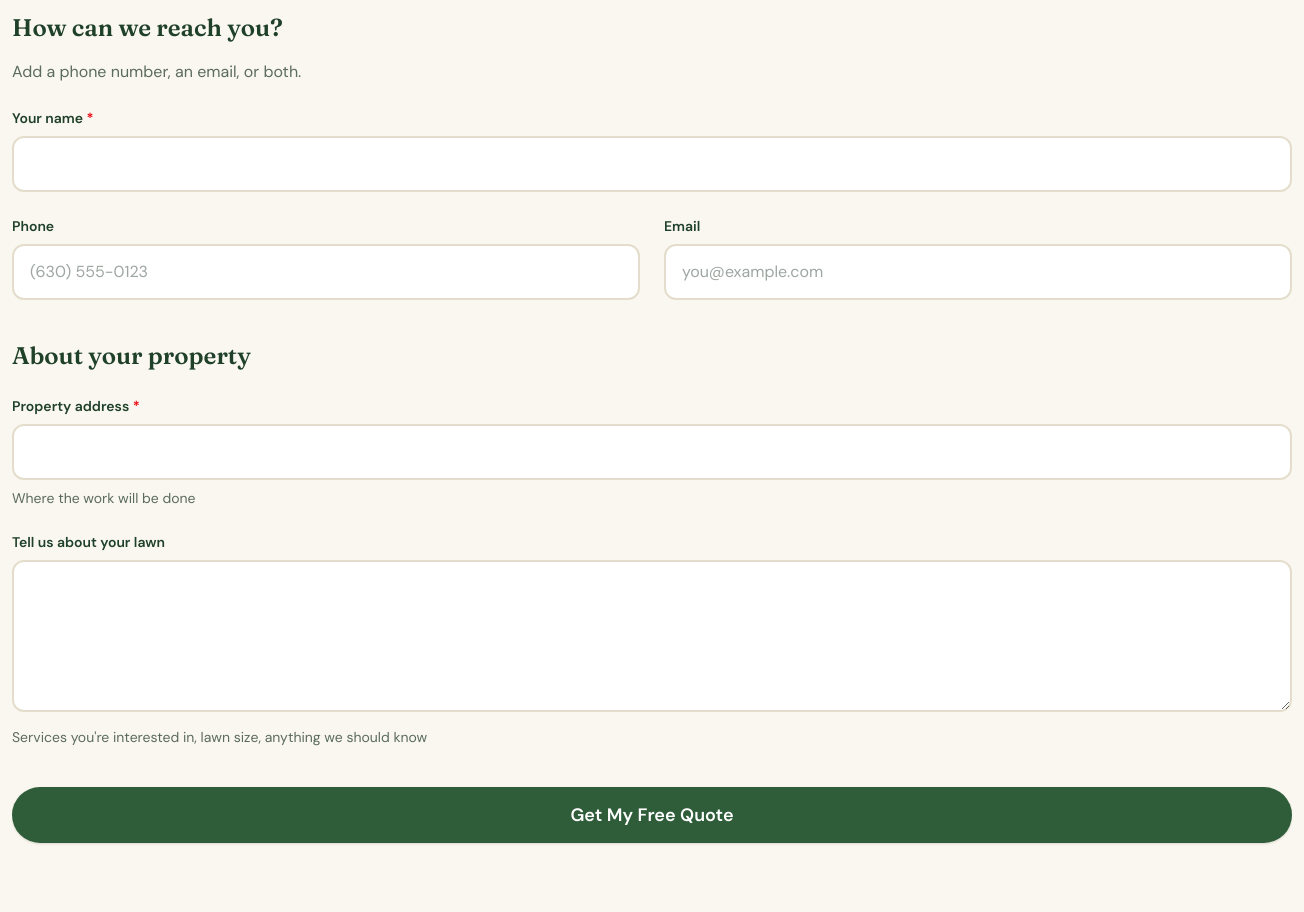
Test case: QuoteForm › rejects an incomplete phone number
In the field labelled "Your name *": [652, 164] box [12, 136, 1292, 192], type "Jane Smith"
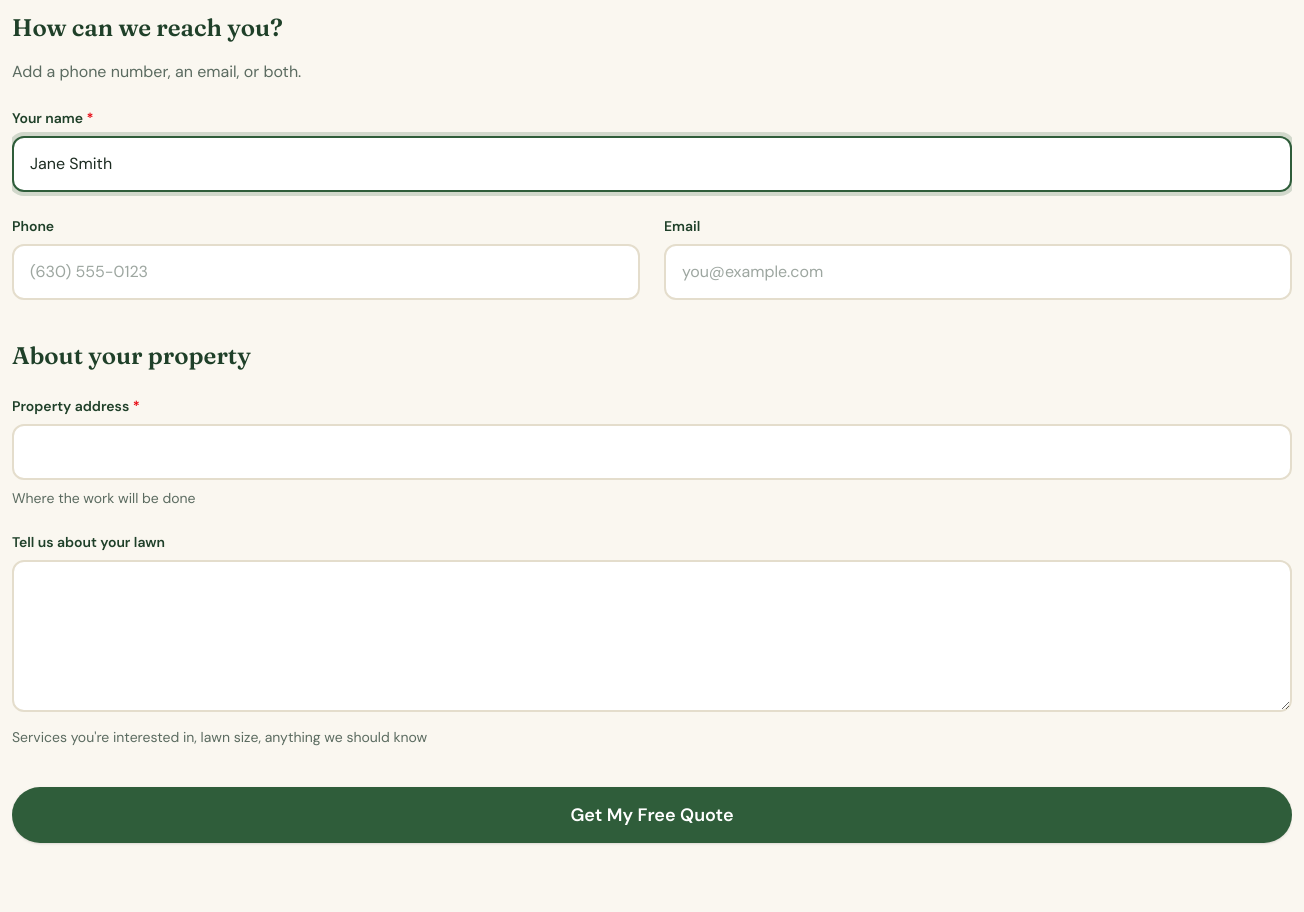
In the field labelled "Property address *": [652, 452] box [12, 424, 1292, 480], type "12 Main St"
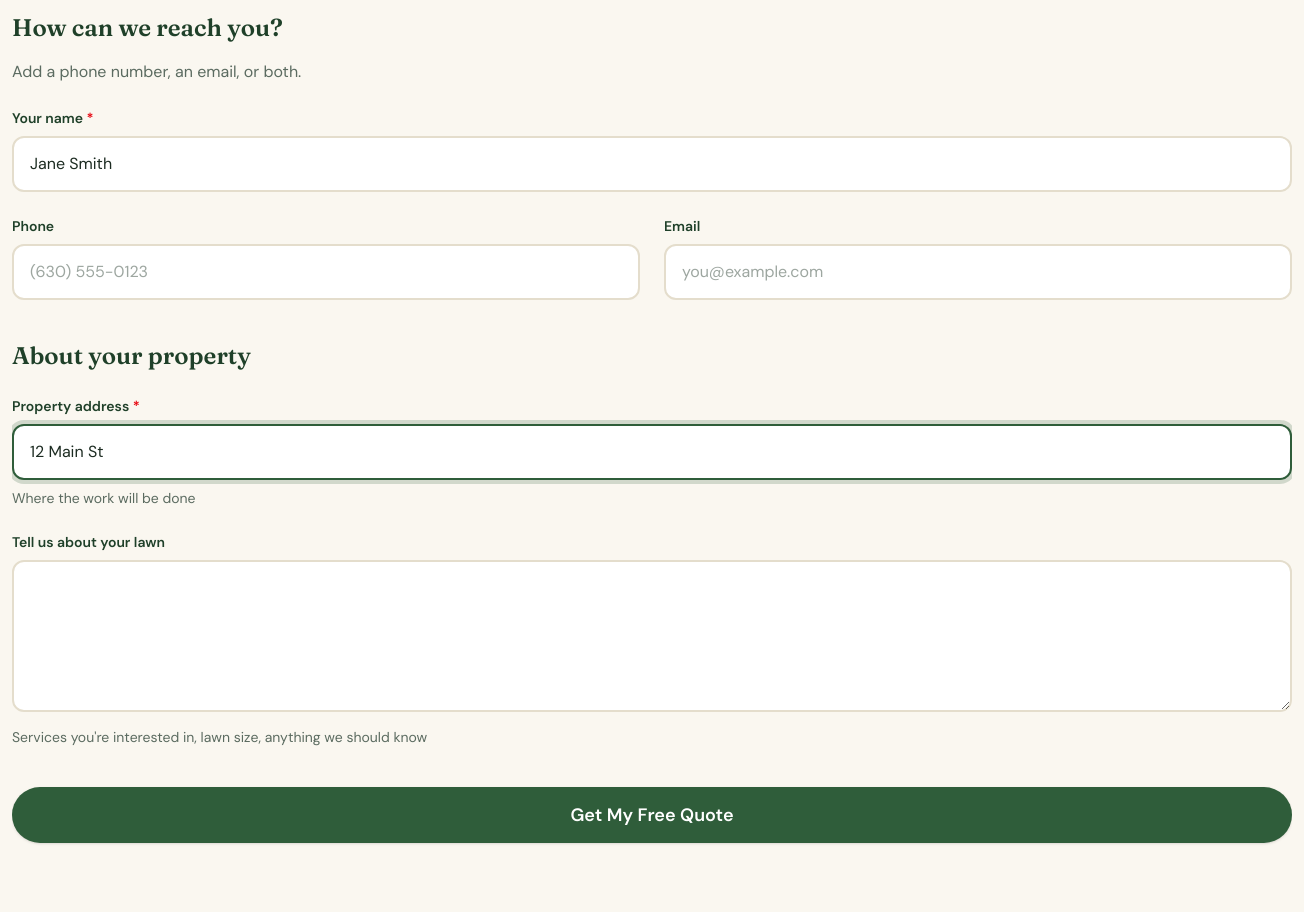
In the field labelled "Phone": [326, 272] box [12, 244, 640, 300], type "63055"
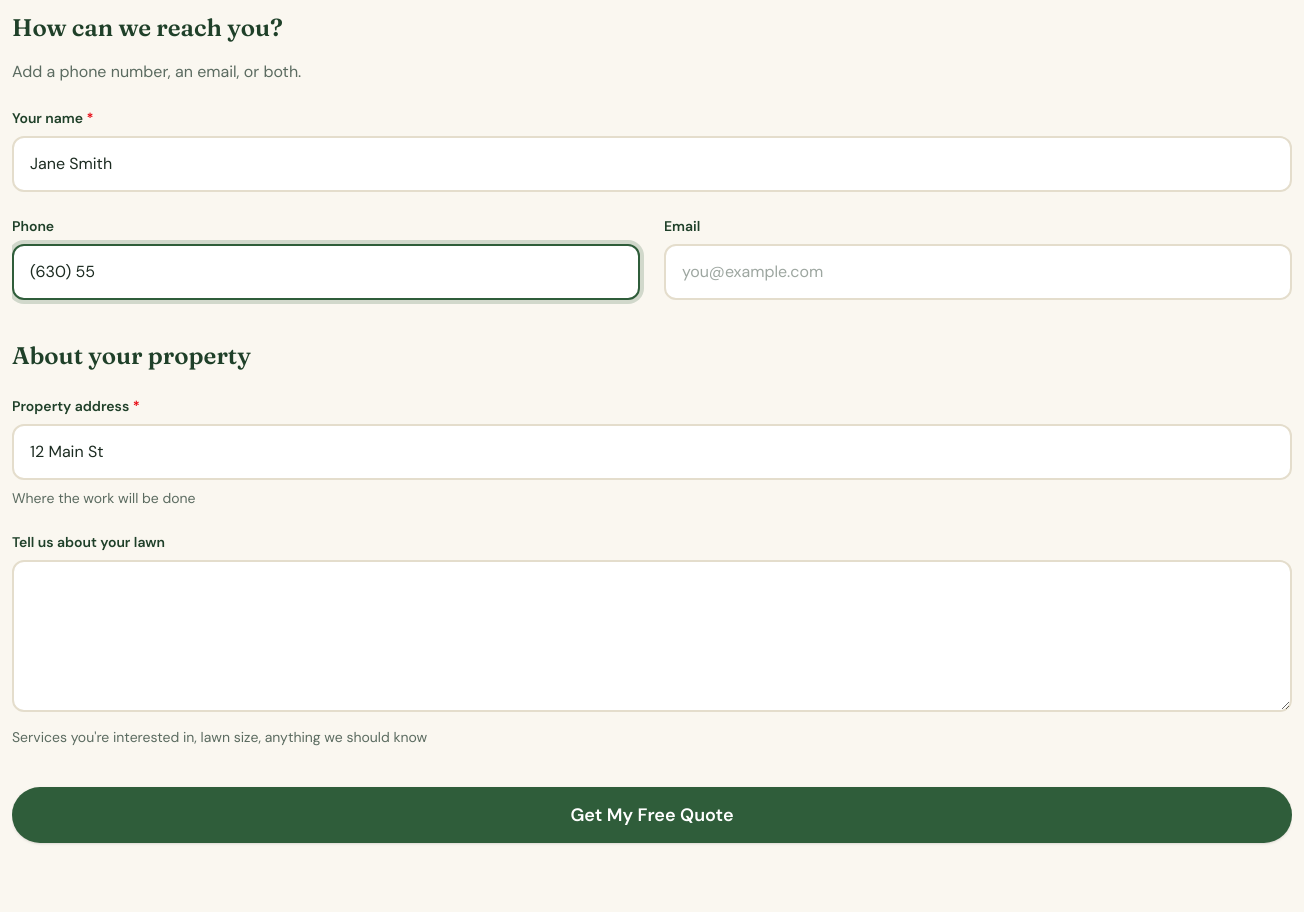
Click the button "Get My Free Quote": [652, 815] box [12, 787, 1292, 843]
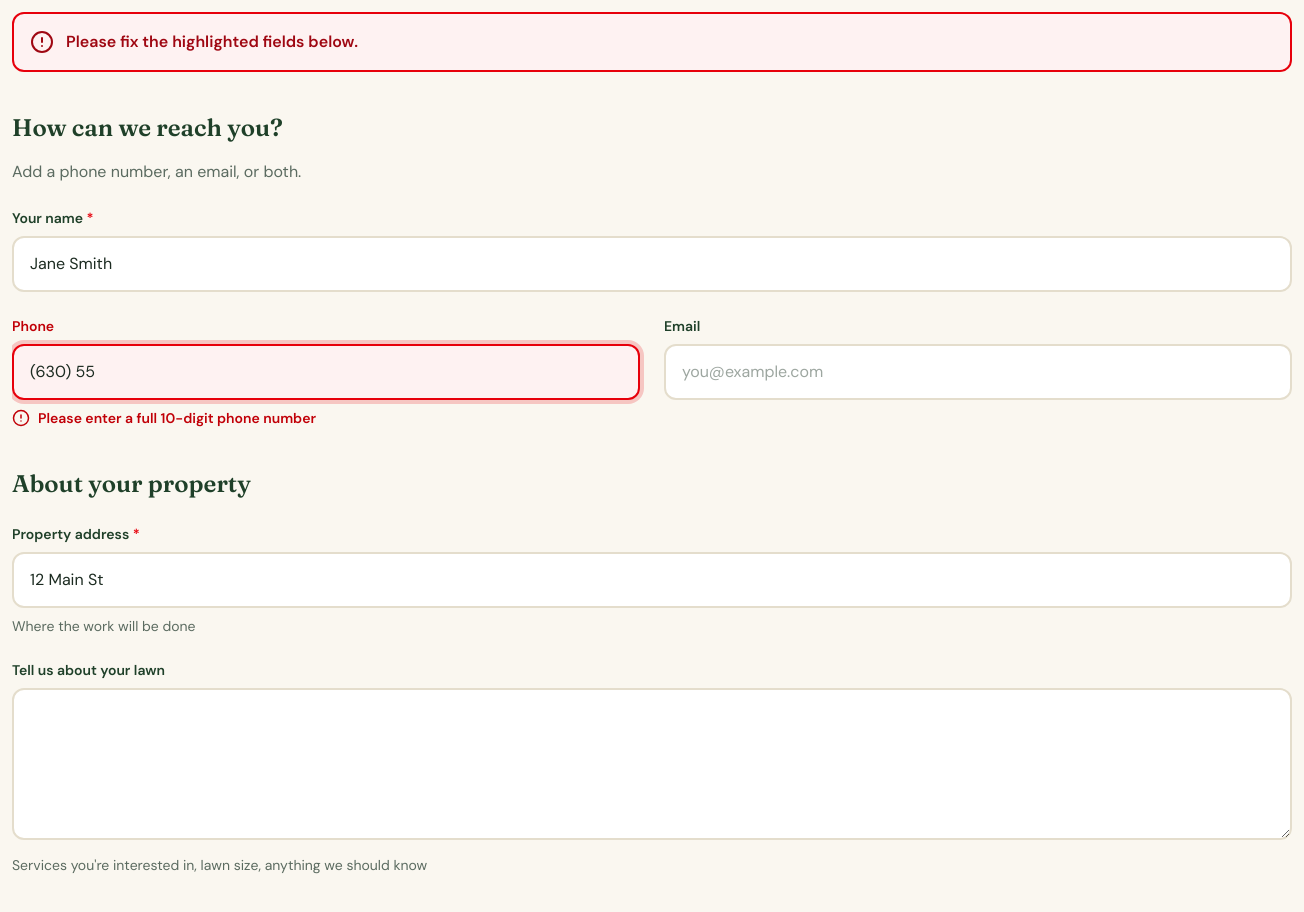
Now the text "Please enter a full 10-digit phone number" is shown, box [12, 409, 316, 427]
